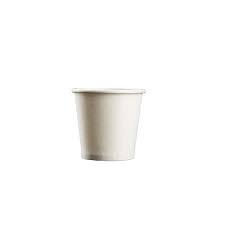cup: (63, 62, 159, 184)
